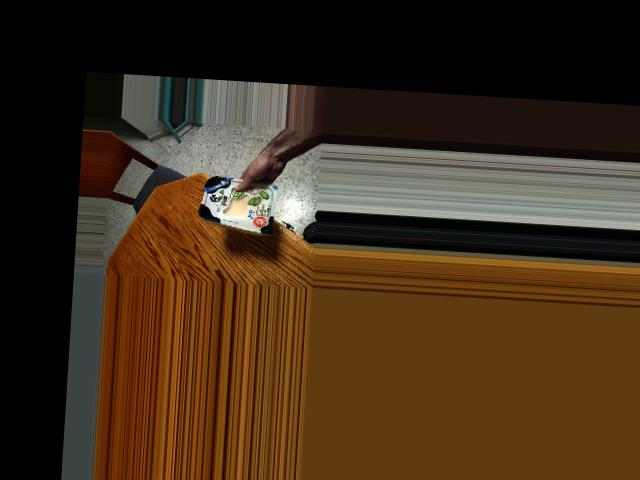cheese: (199, 177, 272, 226)
